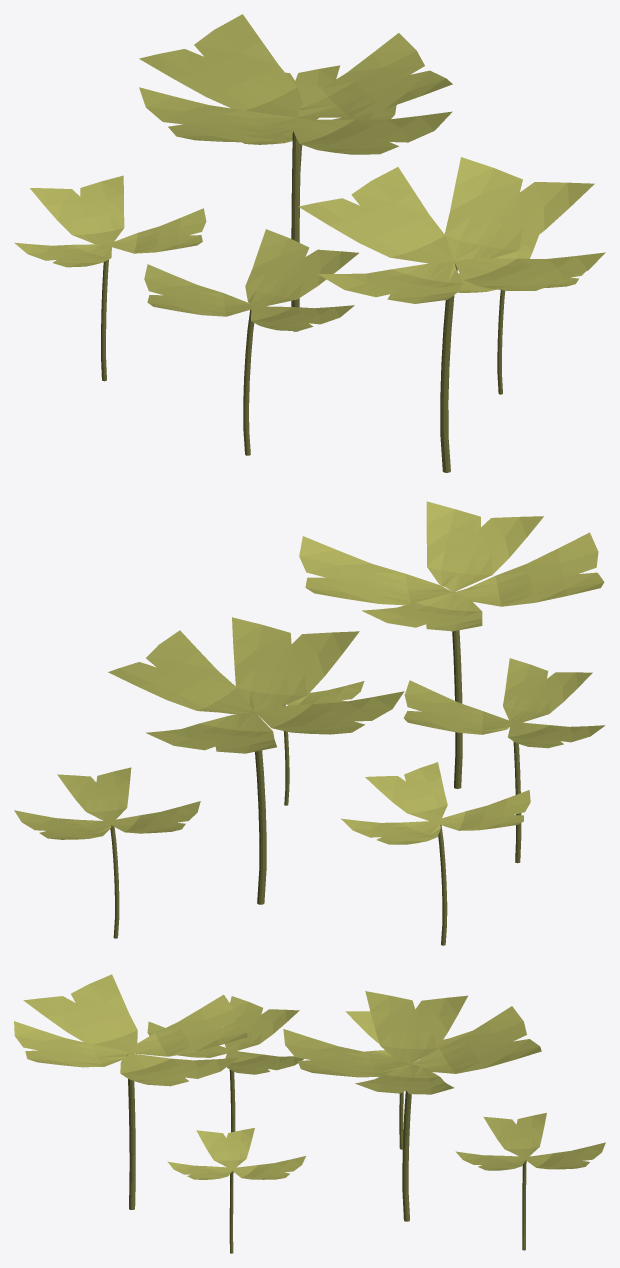
File: SFHW_Plant_007.fbx
3 renders of one model, top to bottom at view 1: azimuth 30°, elevation 25°; view 2: azimuth 150°, elevation 25°; view 3: azimuth 270°, elevation 25°, orthographic. The views are drawn at different scales.
Visible parts, largest first — view 1: SFHW_Plant_007; view 2: SFHW_Plant_007; view 3: SFHW_Plant_007.
Part boxes in pixels (left/top/right/bottom): SFHW_Plant_007: left=14, top=14, right=605, bottom=472; SFHW_Plant_007: left=14, top=501, right=605, bottom=945; SFHW_Plant_007: left=14, top=974, right=605, bottom=1253.
Size of the model in its own units: 18.14 by 9.47 by 27.87.
